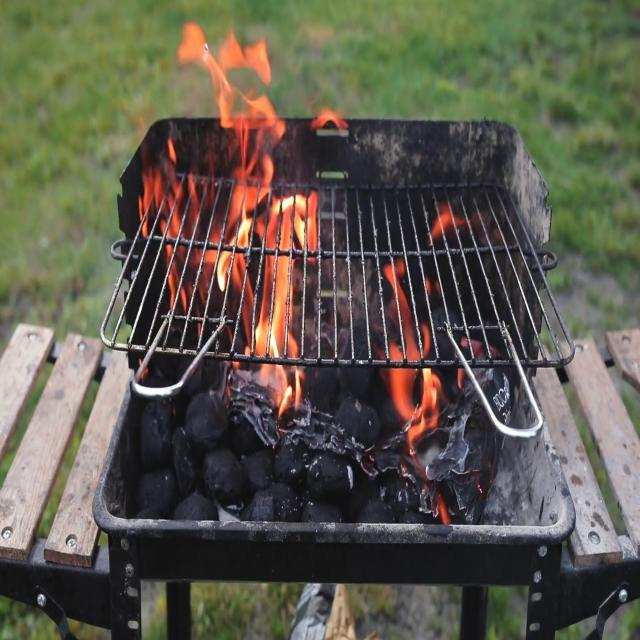Fire: (135, 0, 335, 440), (374, 255, 471, 472)
